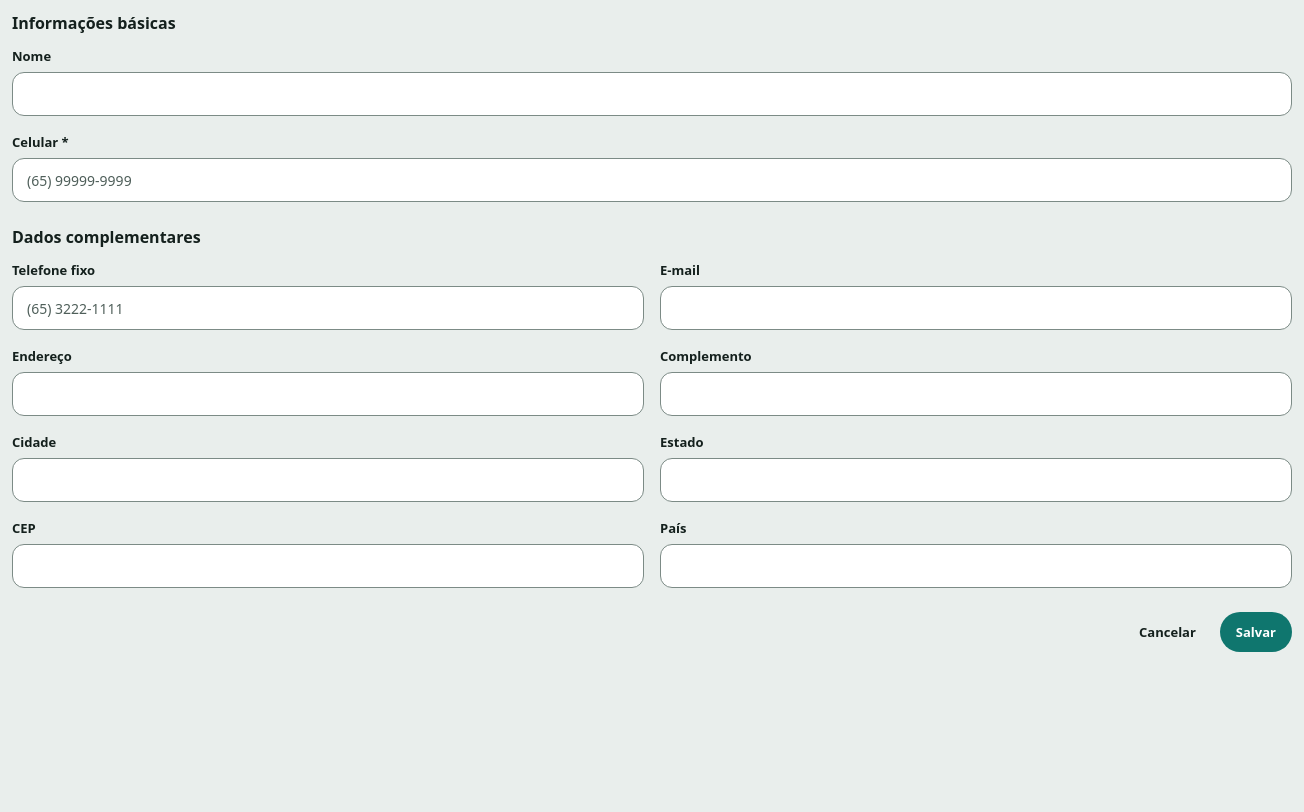
it: ContactForm › requires the celular
Type "Maria" into the field labelled "Nome" at (652, 94), box [12,72,1292,116]
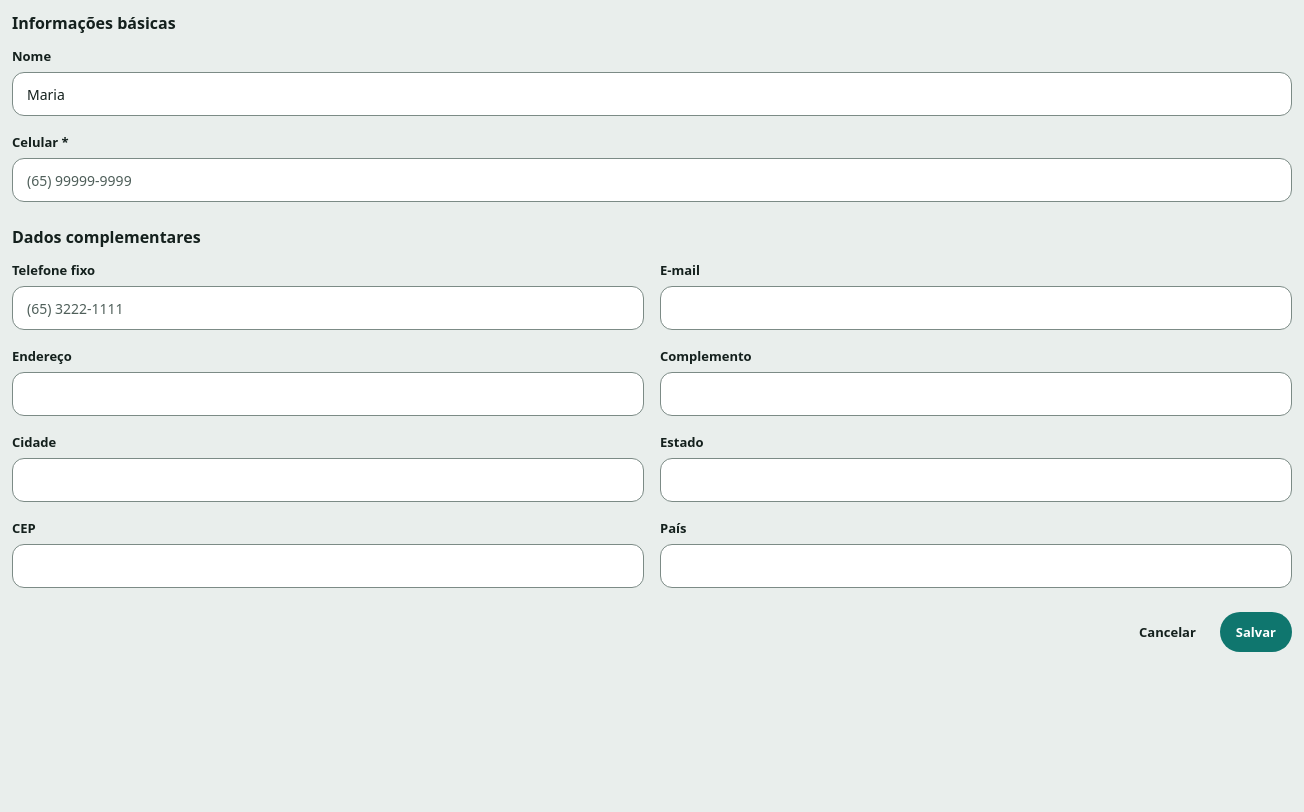
Click the button "Salvar" at (1256, 632), box [1220,612,1292,652]
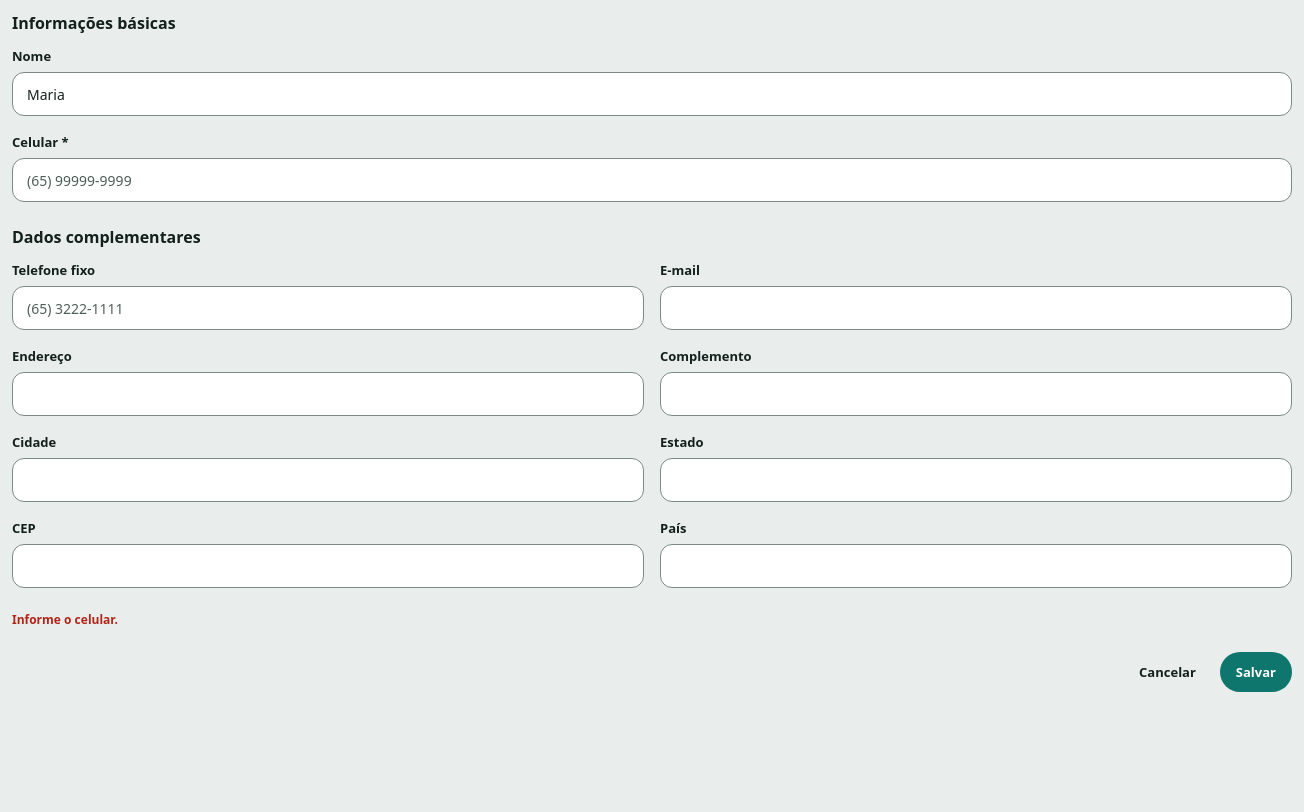
Now the message reads "Informe o celular.", box [12,611,118,628]
